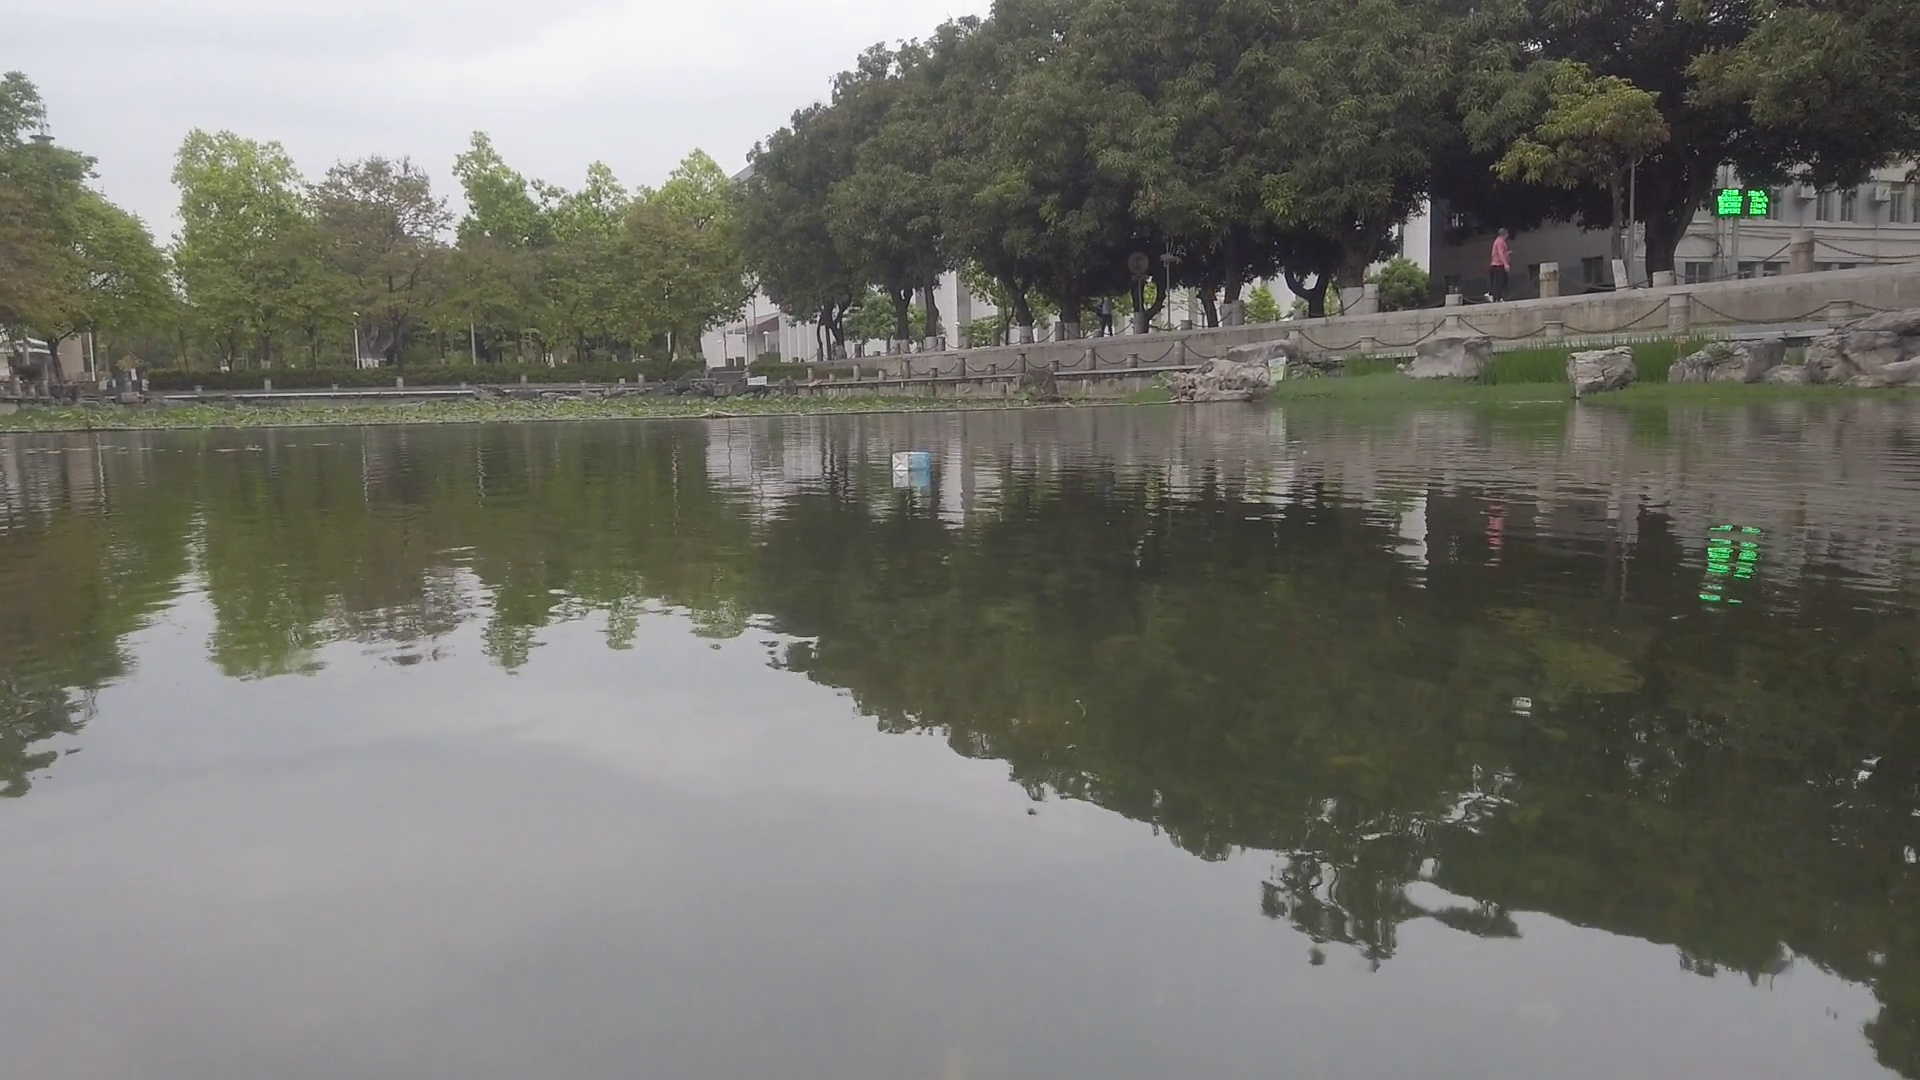carton: (890, 450, 936, 469)
